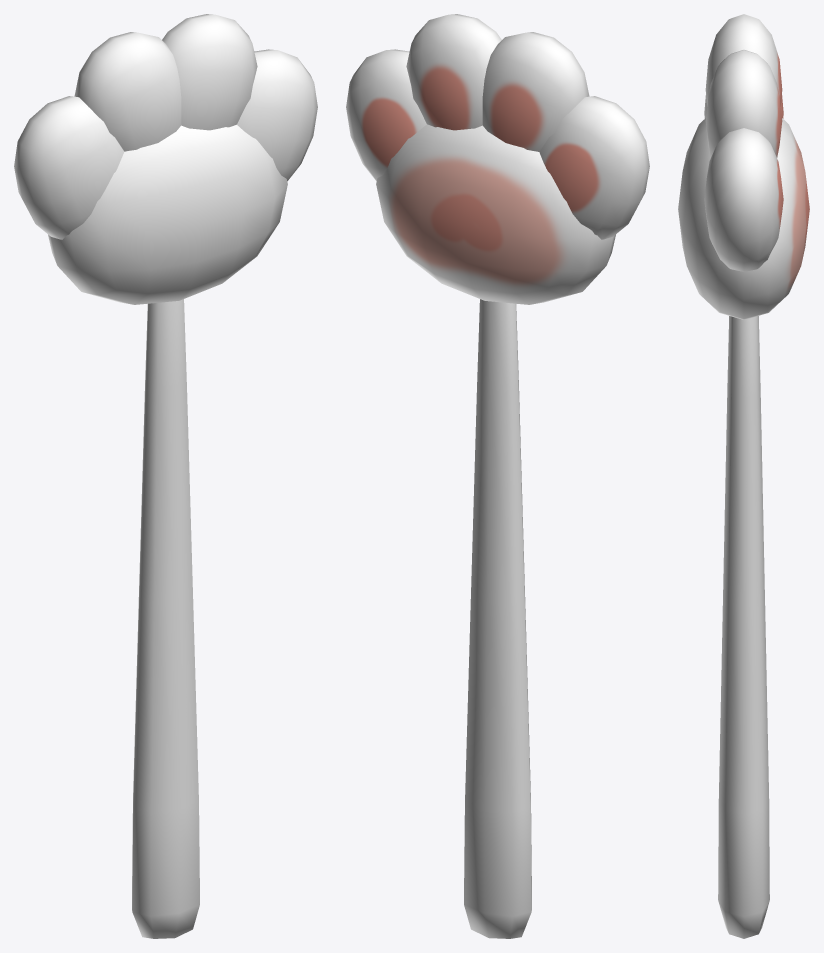
Rendered from PawStick.fbx.
3 renders of one model, left to right at view 1: azimuth 30°, elevation 25°; view 2: azimuth 150°, elevation 25°; view 3: azimuth 270°, elevation 25°, orthographic.
Visible parts, largest first — view 1: Cube, Cube.003, Cube.004, Cube.005; view 2: Cube, Cube.003, Cube.004, Cube.005; view 3: Cube, Cube.003, Cube.004, Cube.005.
Boxes of the visible parts, <box> form: Cube: <box>132,299,199,938</box>; Cube.003: <box>48,124,287,304</box>; Cube.004: <box>14,49,317,239</box>; Cube.005: <box>74,14,257,151</box>; Cube: <box>464,299,531,938</box>; Cube.003: <box>376,124,615,304</box>; Cube.004: <box>346,49,649,239</box>; Cube.005: <box>406,14,589,151</box>; Cube: <box>718,316,769,938</box>; Cube.003: <box>678,118,809,319</box>; Cube.004: <box>704,95,783,271</box>; Cube.005: <box>705,14,782,157</box>.
Bounding box in the file's own units: 1.67 × 0.6523 × 4.89.
1 material, 1 textured.
